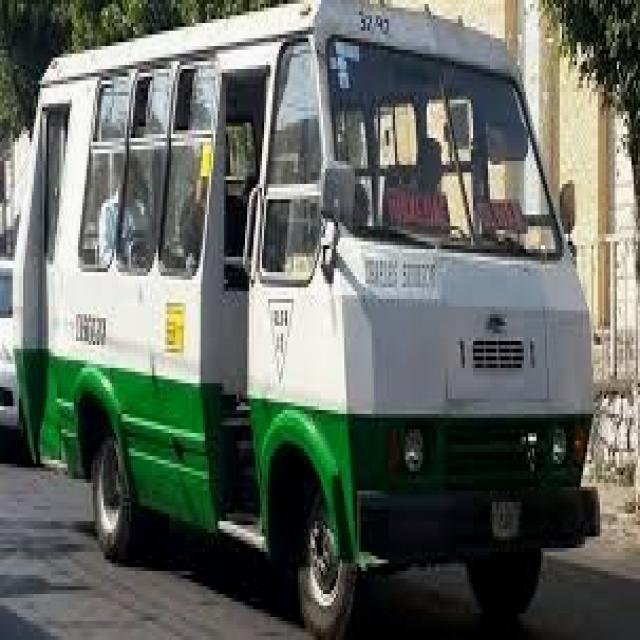bus: (4, 1, 617, 621)
